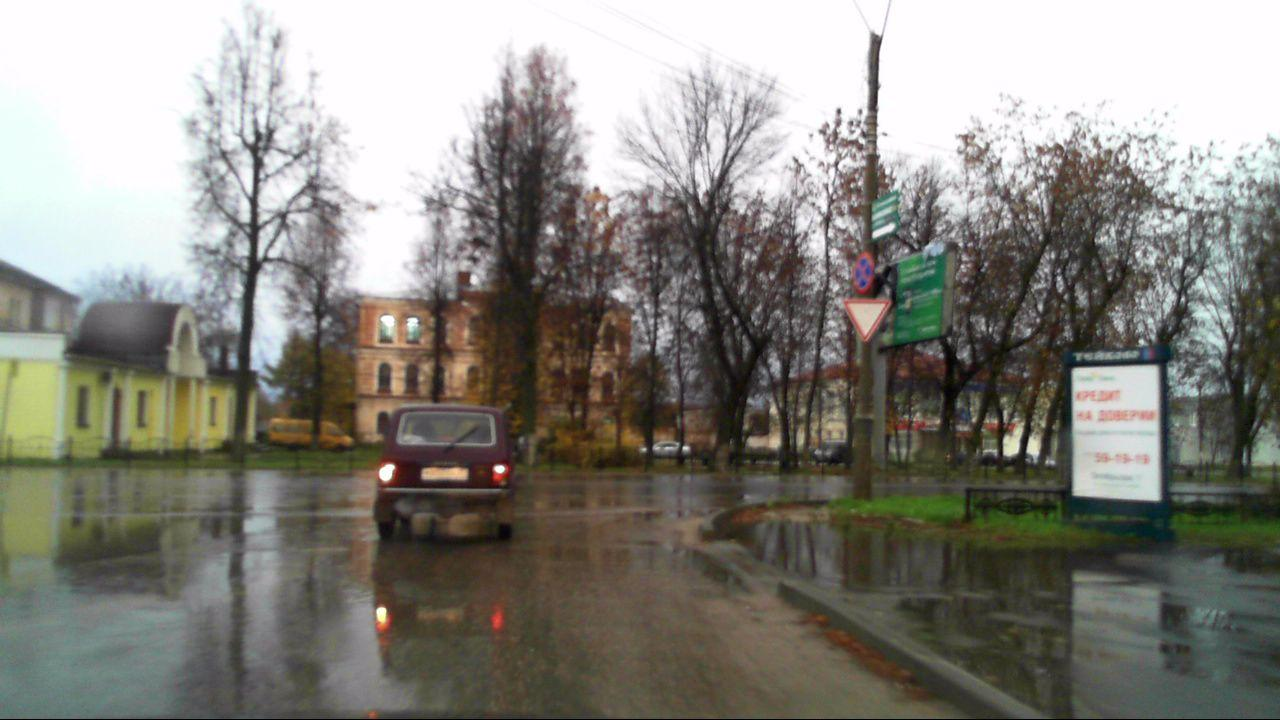road_sign: (841, 299, 893, 343), (852, 251, 875, 292)
